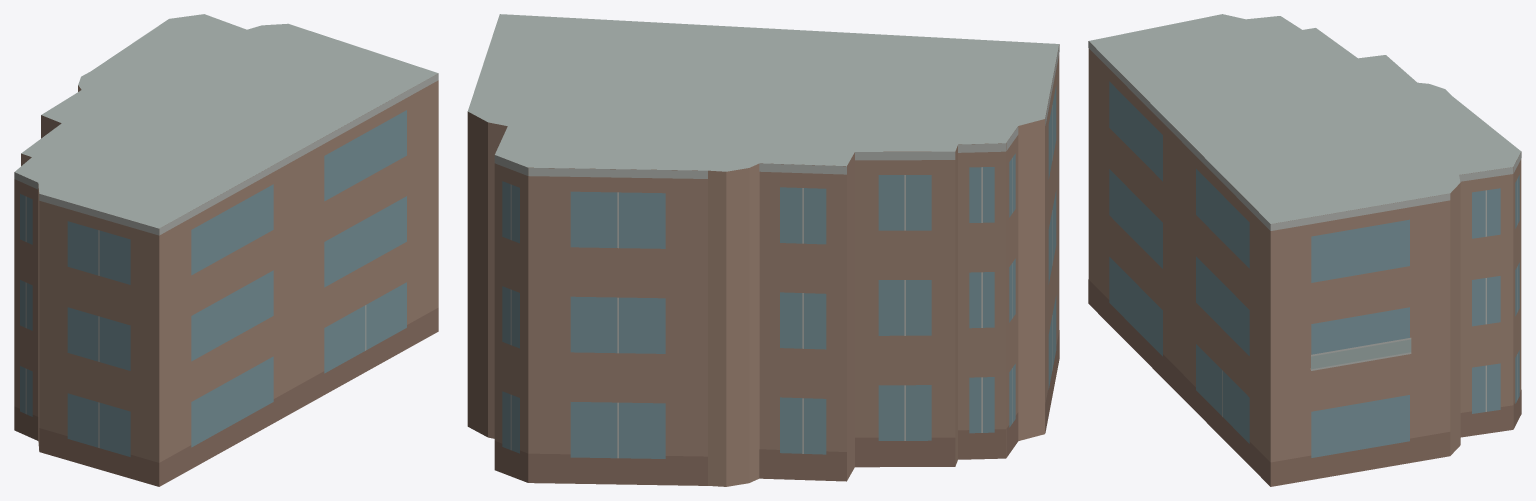
File: survey-upis-33028612.glb
The picture shows the model from 3 angles, left to right: view 1: azimuth 30°, elevation 25°; view 2: azimuth 150°, elevation 25°; view 3: azimuth 270°, elevation 25°; orthographic projection. The views are drawn at different scales.
Parts seen in each view (by area): view 1: survey-upis-33028612.tmp; view 2: survey-upis-33028612.tmp; view 3: survey-upis-33028612.tmp.
Part boxes in pixels (box(x1,y1,x2,y2)): survey-upis-33028612.tmp: box(14, 14, 438, 486); survey-upis-33028612.tmp: box(467, 14, 1059, 486); survey-upis-33028612.tmp: box(1088, 14, 1521, 486).
Bounding box in the file's own units: 15.61 × 9.1 × 13.59.
